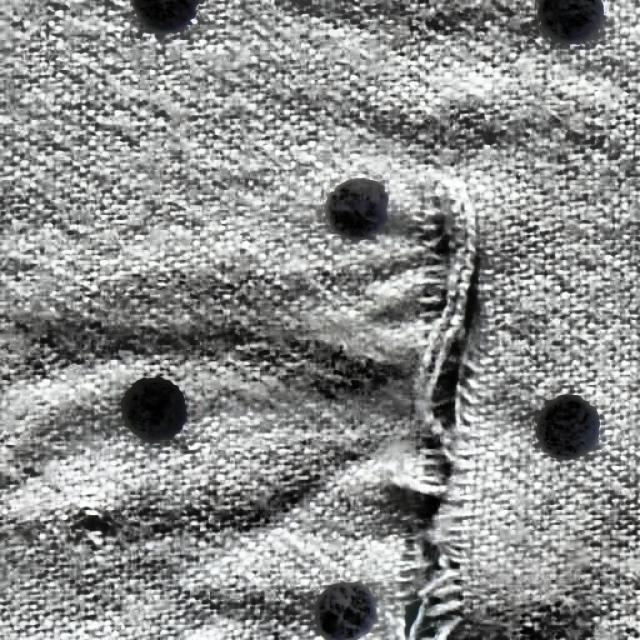cut: (44, 483, 150, 578)
gray stitch: (340, 164, 511, 639)
